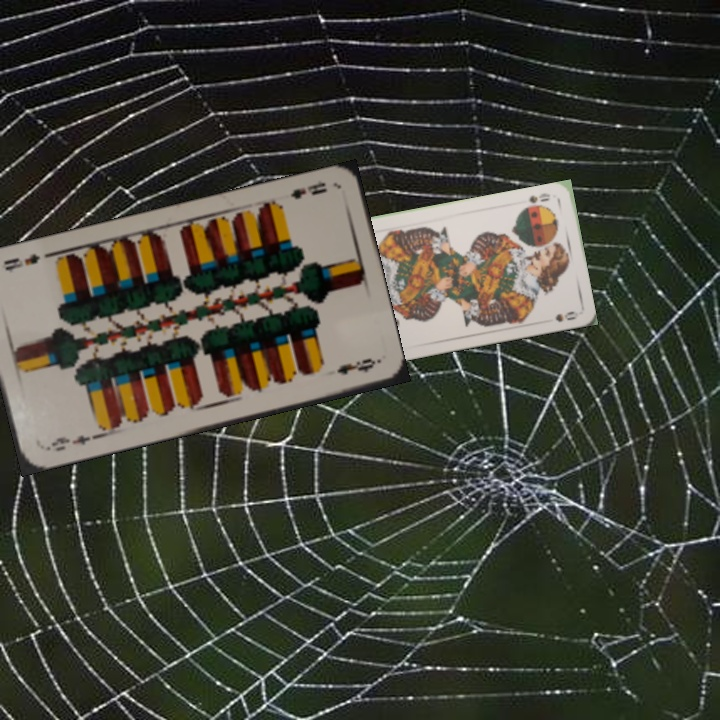E9: (41, 430, 99, 454), (286, 176, 330, 202)
SO: (525, 189, 552, 206)
